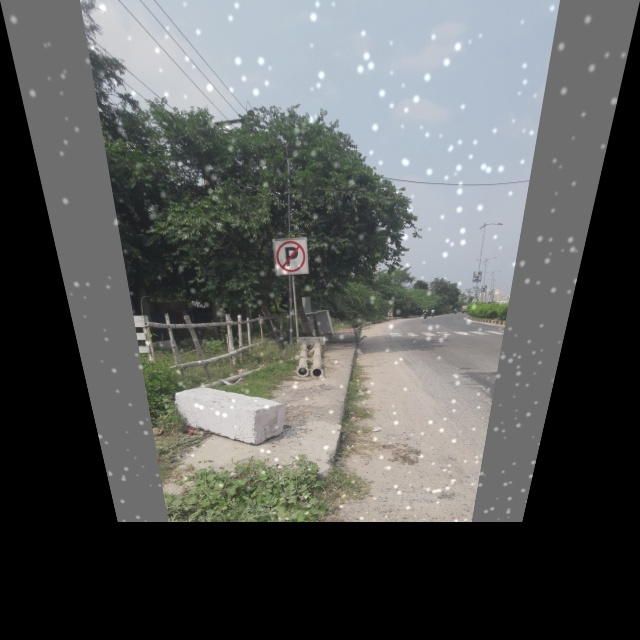No_Parking: (271, 236, 310, 278)
